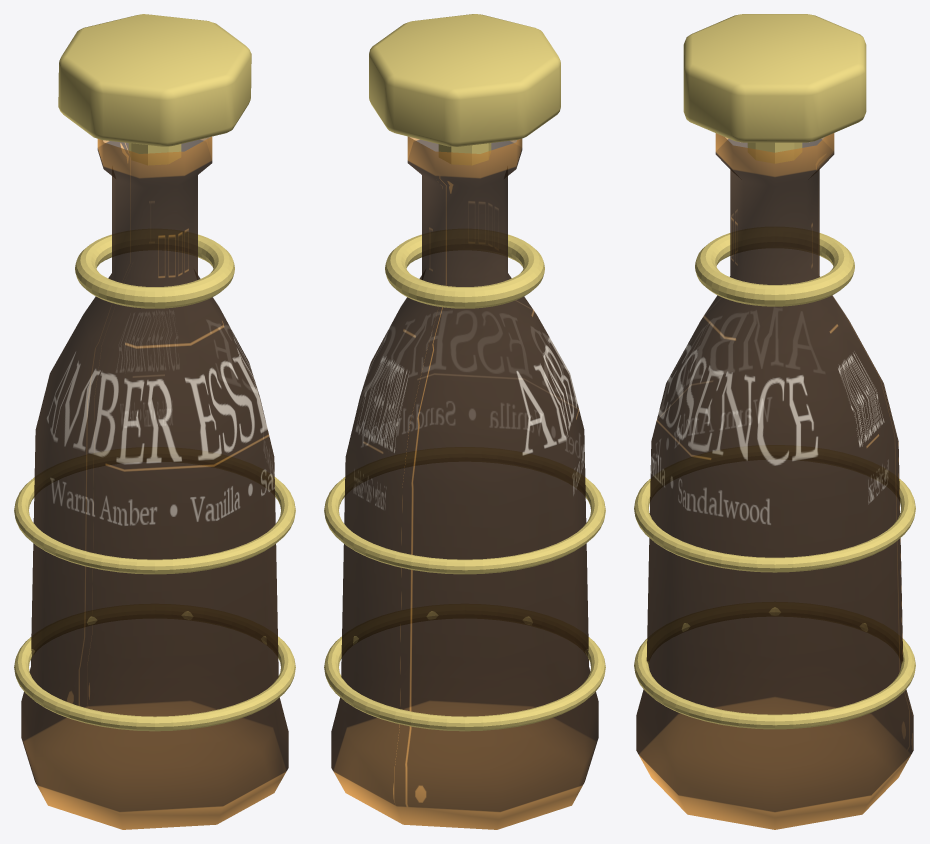
The model's file is bottle_amber.glb.
3 renders of one model, left to right at view 1: azimuth 30°, elevation 25°; view 2: azimuth 150°, elevation 25°; view 3: azimuth 270°, elevation 25°, orthographic.
Visible parts, largest first — view 1: AmberBody, AmberCap, Torus.002, Torus.001, Torus, Cylinder; view 2: AmberBody, AmberCap, Torus.001, Torus.002, Torus, Cylinder; view 3: AmberBody, AmberCap, Torus.002, Torus.001, Torus, Cylinder.
Boxes of the visible parts, x1,y1,x2,y2 form: AmberBody: (21,136,288,829); AmberCap: (58,14,251,146); Torus.002: (14,457,295,574); Torus.001: (14,611,295,731); Torus: (75,233,234,308); Cylinder: (128,143,181,165); AmberBody: (331,136,598,829); AmberCap: (369,14,560,146); Torus.001: (324,611,605,731); Torus.002: (324,476,605,574); Torus: (385,234,544,308); Cylinder: (438,143,491,165); AmberBody: (636,133,913,829); AmberCap: (683,14,866,142); Torus.002: (634,456,915,572); Torus.001: (634,607,915,729); Torus: (695,233,854,306); Cylinder: (747,142,802,163).
Size of the model in its own units: 0.57 by 1.62 by 0.57.
Materials: 2 (1 with a texture image).
